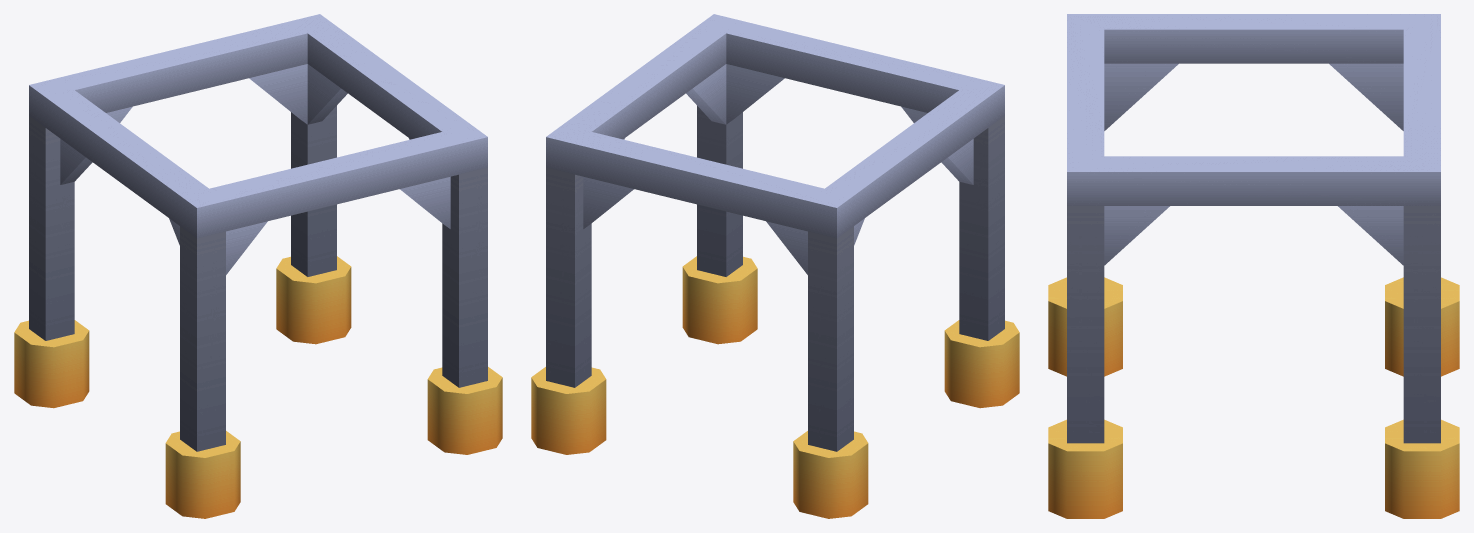
File: structure_barrier.glb
3 views of the same model, side by side, from view 1: azimuth 30°, elevation 25°; view 2: azimuth 150°, elevation 25°; view 3: azimuth 270°, elevation 25° (orthographic). The views are drawn at different scales.
Parts seen in each view (by area): view 1: Group (×14); view 2: Group (×14); view 3: Group (×11).
Boxes of the visible parts, x1,y1,x2,y2 form: Group (×14): (14,14,502,518); Group (×14): (531,14,1019,518); Group (×11): (1048,14,1459,518).
Size of the model in its own units: 1.1 by 1 by 1.1.
1 material, 1 textured.
